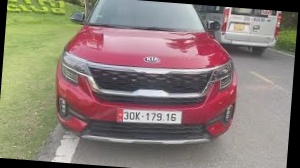Bien-so: (117, 106, 183, 127)
